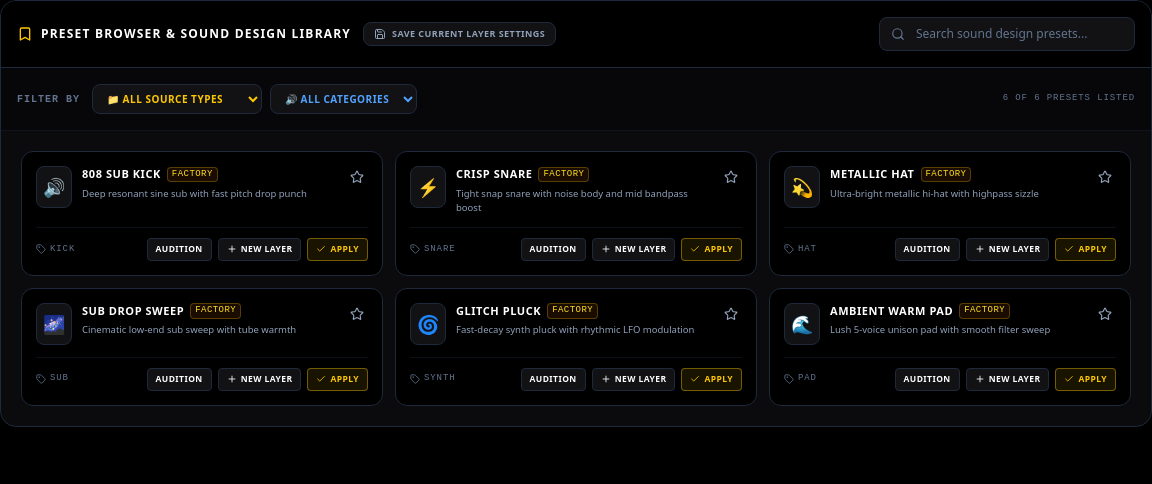
Scenario: LayerPresetBrowser audition › applies a preset provisionally and shows the Keep/Revert banner
Step 1. Click the button "Audition" below "808 Sub Kick" → point(179, 249), box [146,238,212,261]
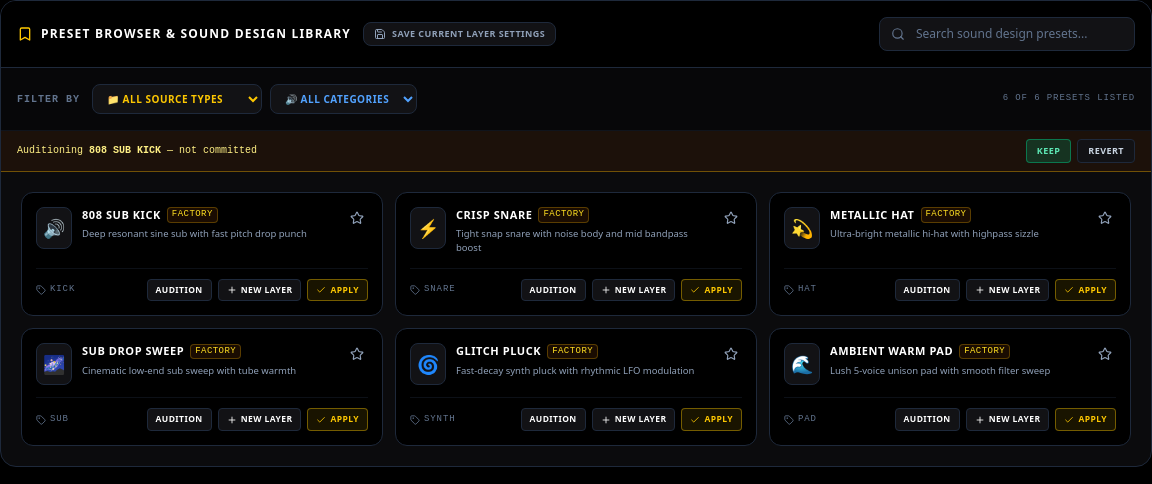
Expected: the text "Auditioning 808 Sub Kick — not committed" is shown, [17,143,257,158]
